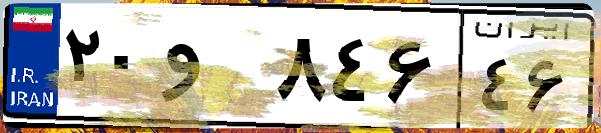0: (110, 28, 158, 98)
2: (57, 26, 110, 100)
4: (330, 28, 385, 110), (475, 38, 525, 113)
6: (385, 28, 445, 110), (525, 38, 570, 115)
8: (270, 28, 330, 110)
و: (158, 20, 270, 120)
